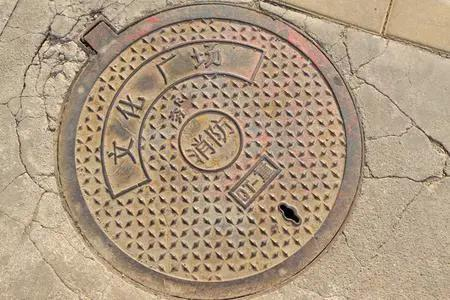wellcover: (51, 0, 369, 300)
